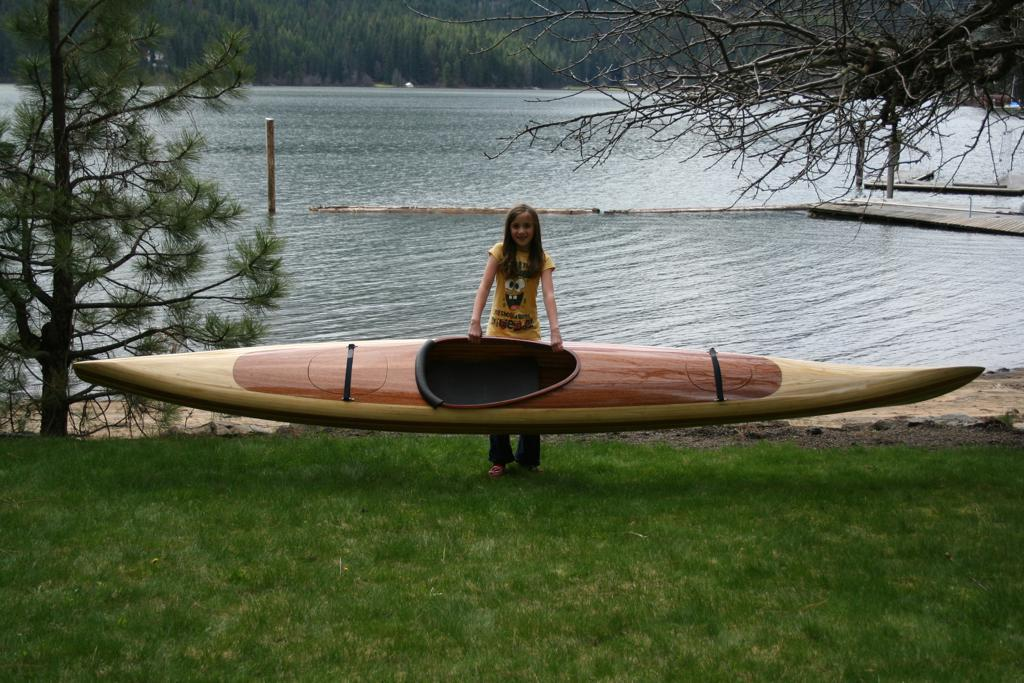face: (512, 214, 533, 247)
